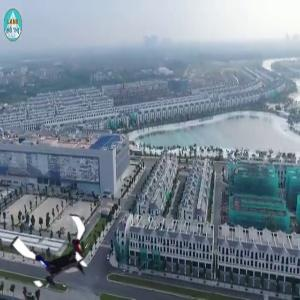drone: (17, 210, 100, 293)
